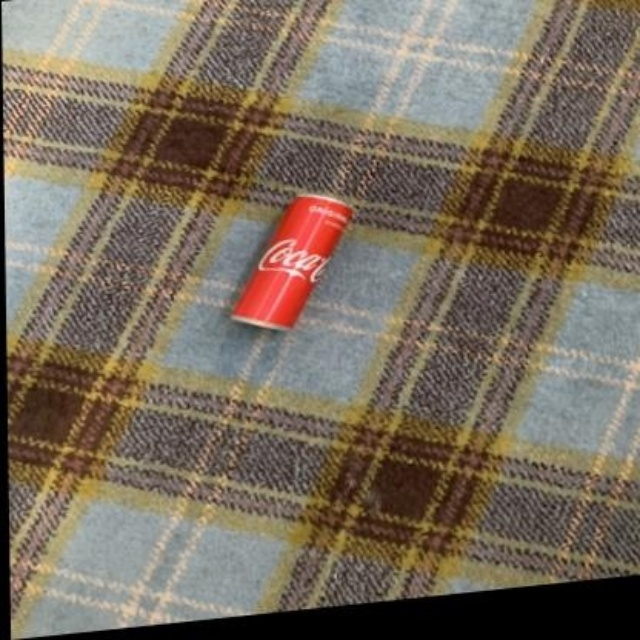trash: (231, 195, 351, 328)
